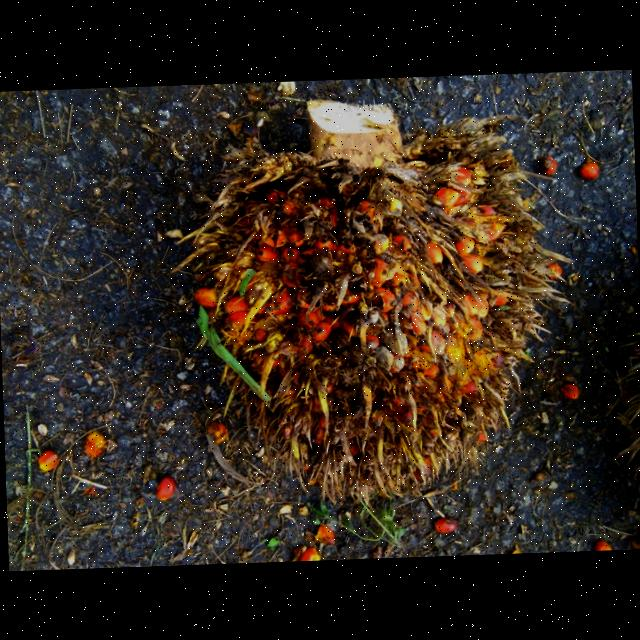Overripe: (182, 96, 559, 497)
